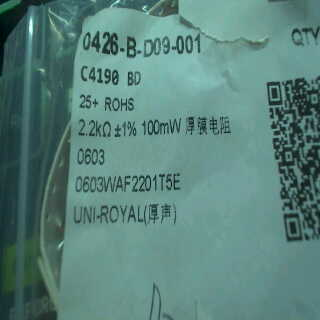2.2kR: (74, 116, 114, 142)
